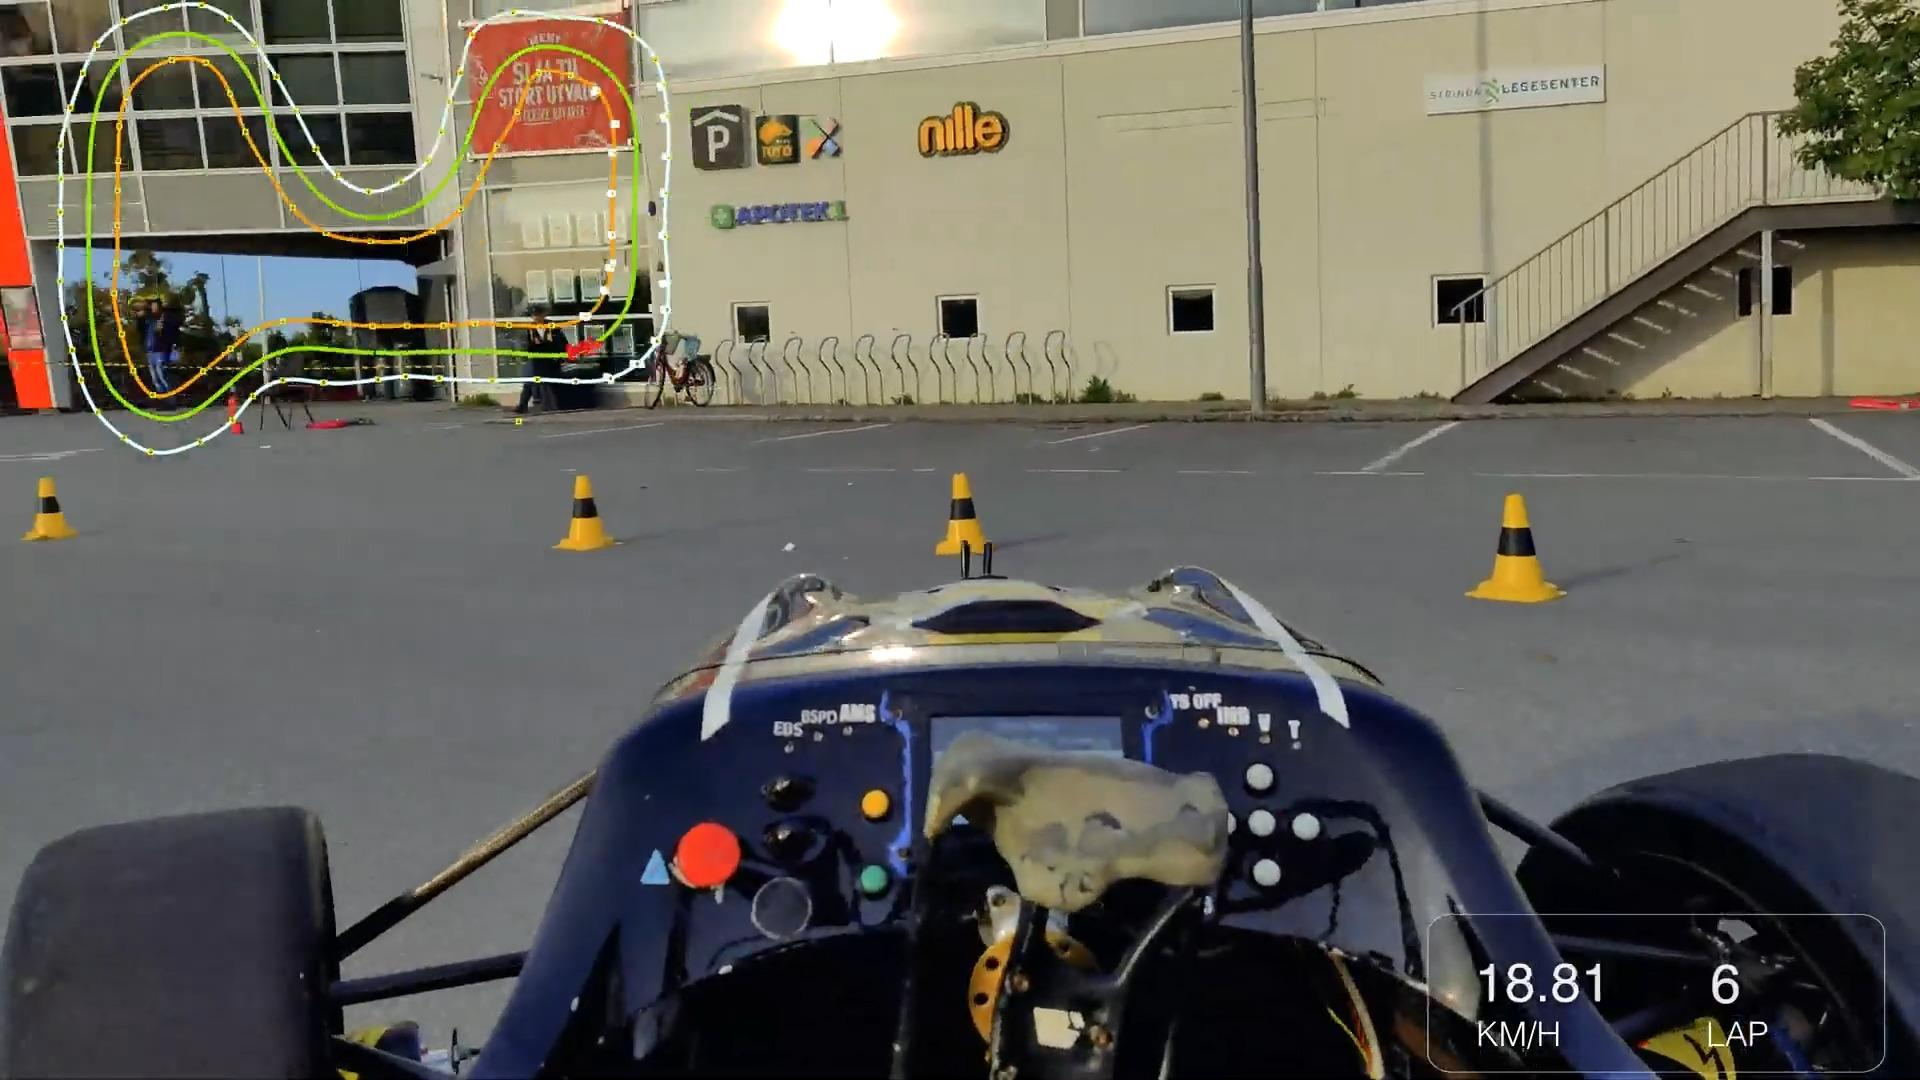yellow_cone: (1468, 493, 1568, 601), (938, 473, 992, 556), (558, 475, 613, 554), (28, 473, 78, 541)
